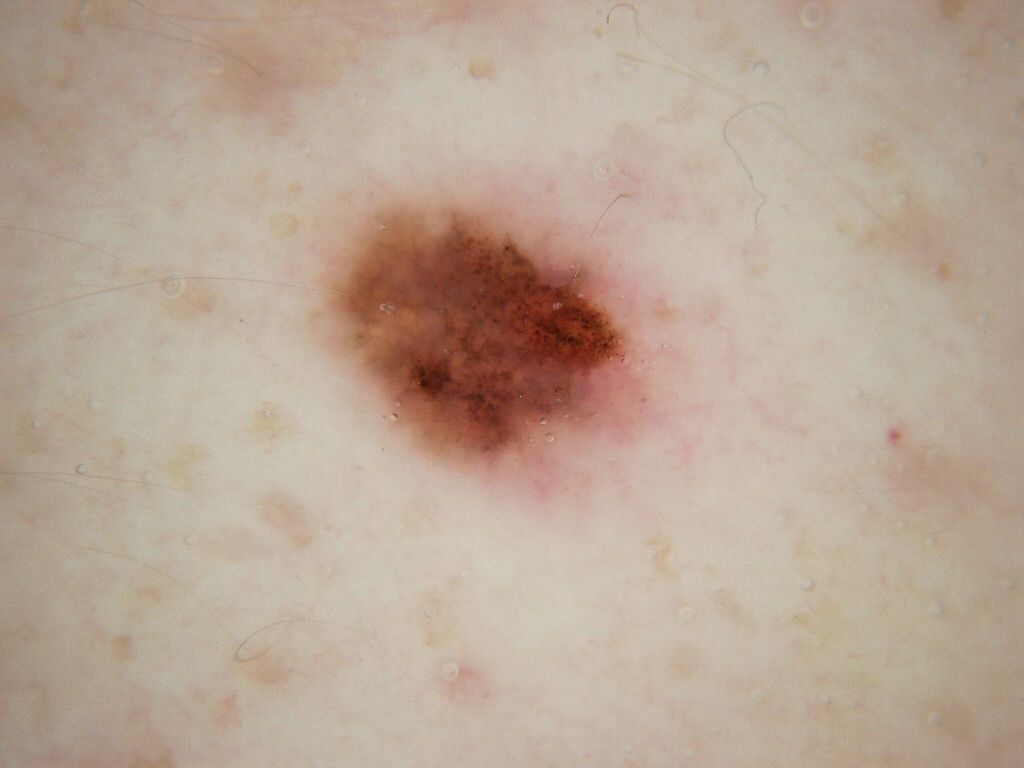Detected Lesion: (326, 191, 641, 474)
